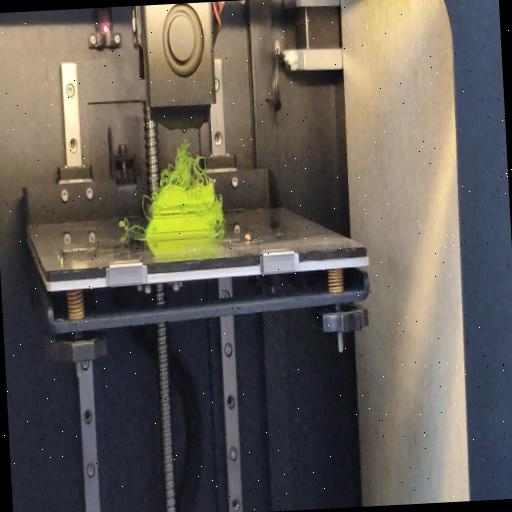spaghetti: (154, 137, 216, 193), (140, 188, 154, 218), (119, 219, 144, 233), (216, 226, 226, 238)
